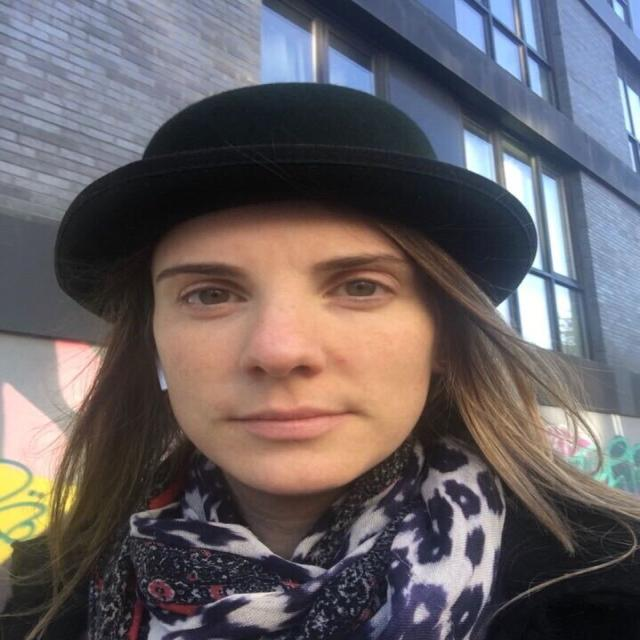hat: (54, 80, 545, 498)
